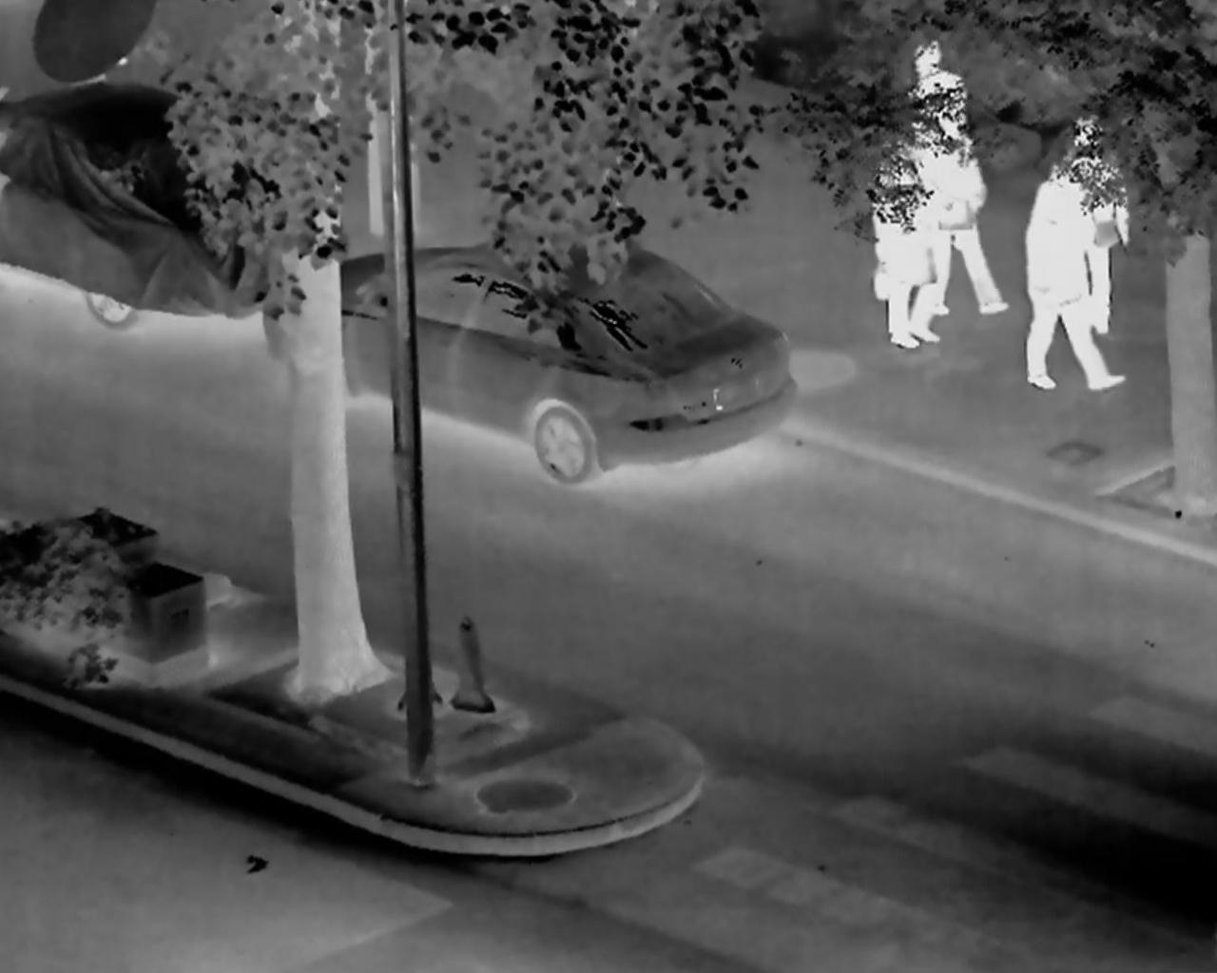person: (1020, 181, 1126, 391), (917, 103, 1010, 316), (1056, 112, 1132, 334), (868, 120, 940, 352), (899, 41, 967, 253)
